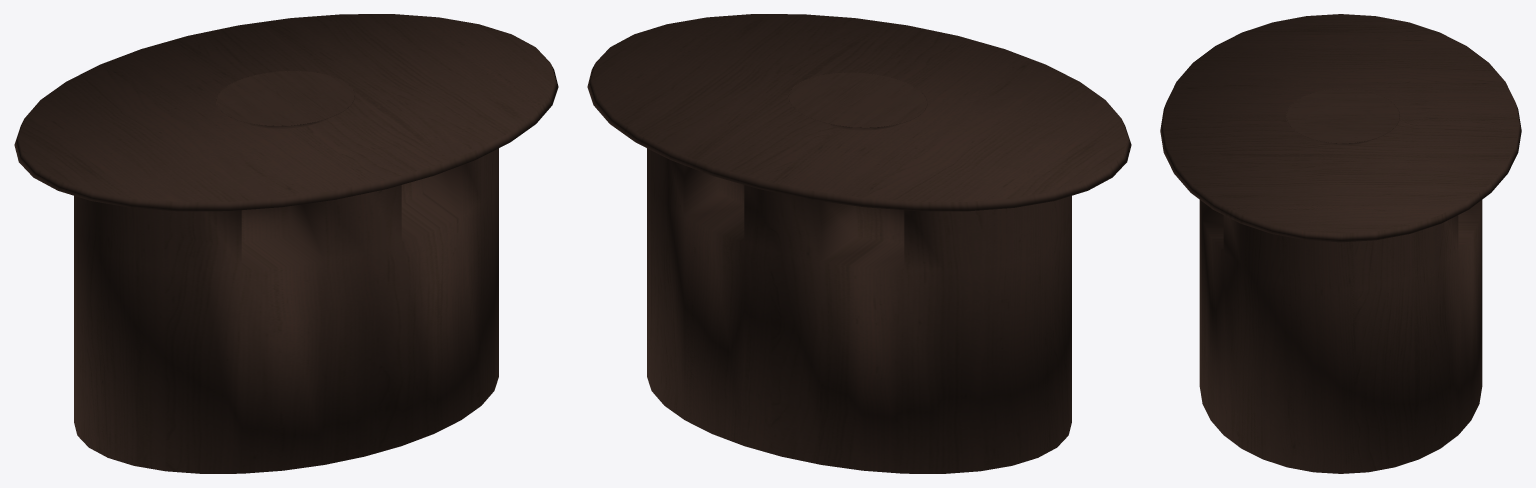
The model's file is COFBLE.glb.
The picture shows the model from 3 angles, left to right: view 1: azimuth 30°, elevation 25°; view 2: azimuth 150°, elevation 25°; view 3: azimuth 270°, elevation 25°; orthographic projection. The views are drawn at different scales.
Parts seen in each view (by area): view 1: Cylinder, Cylinder.001; view 2: Cylinder, Cylinder.001; view 3: Cylinder, Cylinder.001.
Boxes of the visible parts, left/top/right/bottom form: Cylinder: left=14, top=14, right=558, bottom=473; Cylinder.001: left=216, top=71, right=355, bottom=128; Cylinder: left=587, top=14, right=1131, bottom=473; Cylinder.001: left=788, top=72, right=927, bottom=130; Cylinder: left=1160, top=14, right=1521, bottom=473; Cylinder.001: left=1286, top=89, right=1400, bottom=145.
Size of the model in its own units: 2.76 by 1.57 by 1.89.
Materials: 1 (1 with a texture image).
